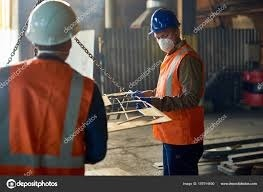helmet: (23, 1, 82, 47), (147, 6, 182, 37)
person: (1, 1, 109, 176), (147, 6, 207, 176)
safety vest: (3, 58, 94, 176), (155, 48, 202, 147)
